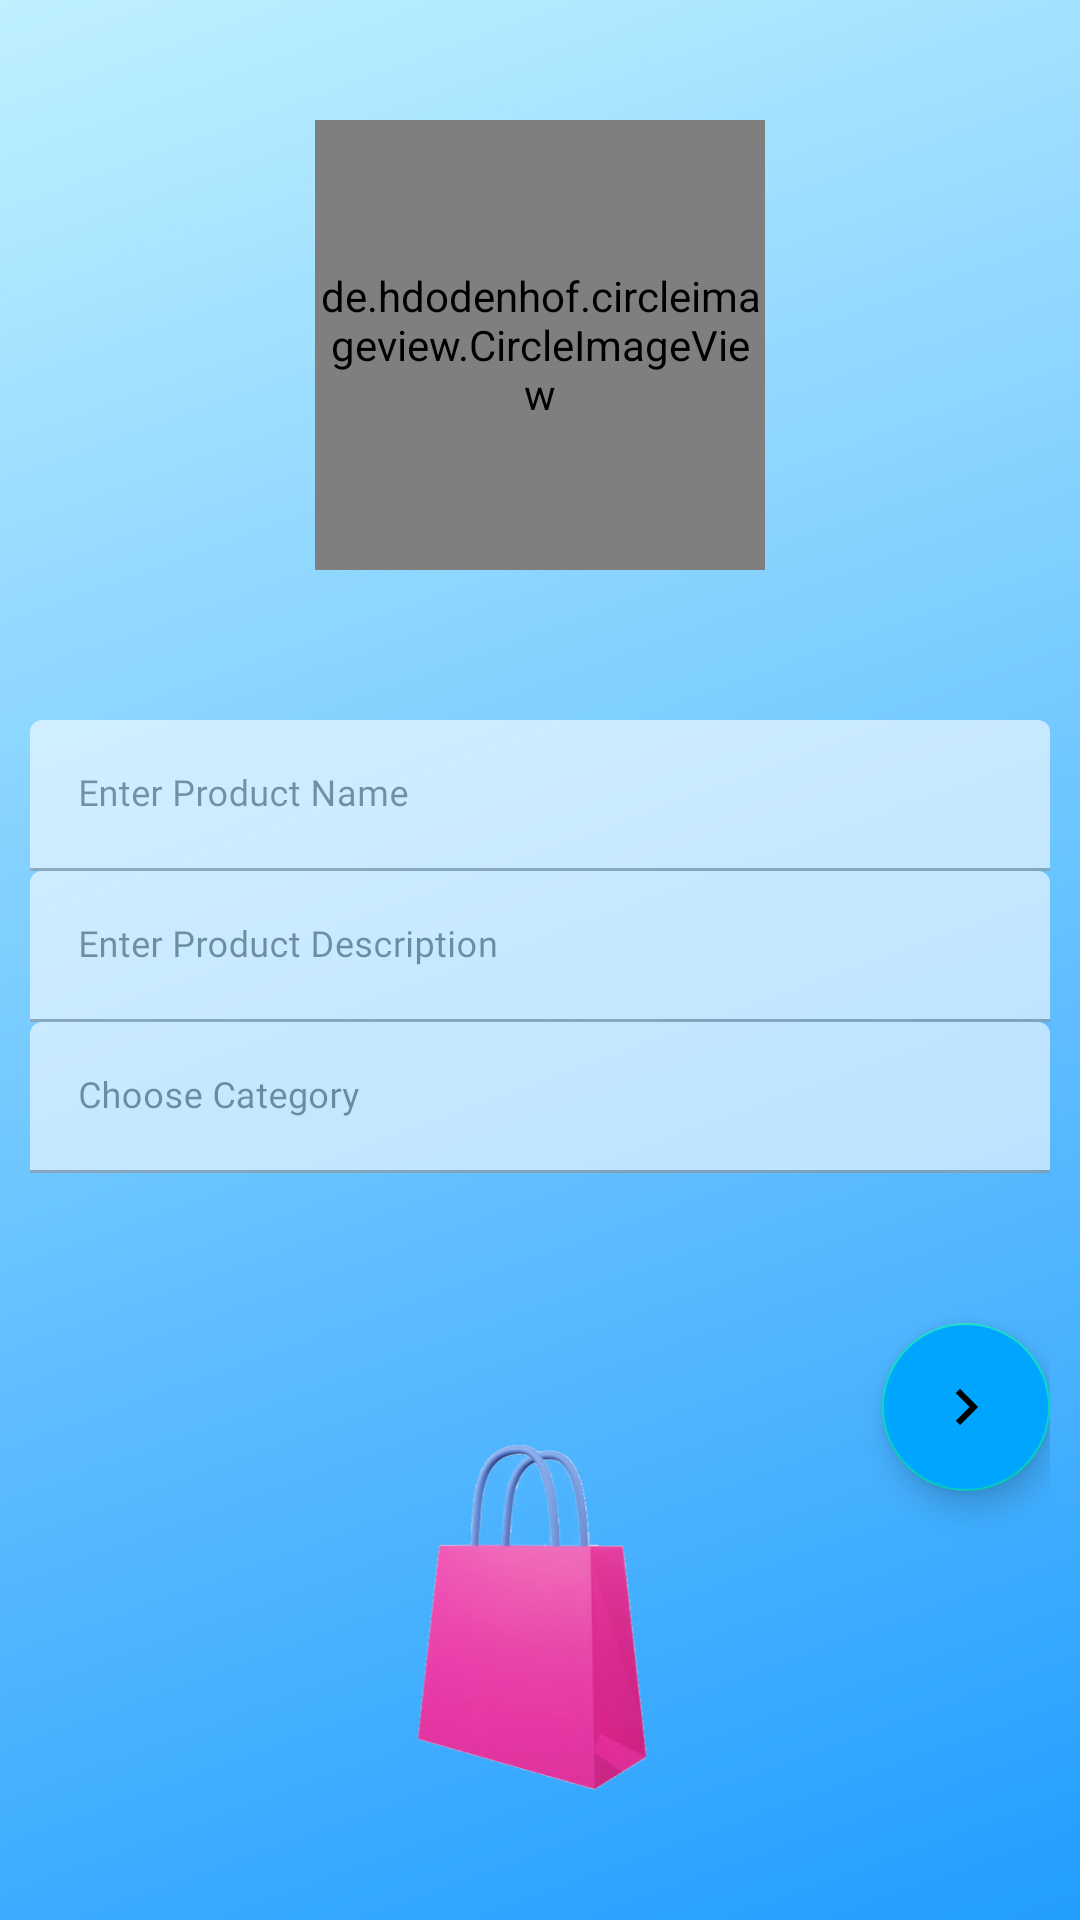

Icon click points for this 1080*1920 phone screenshot, format [x,y]:
next: [966,1407]
